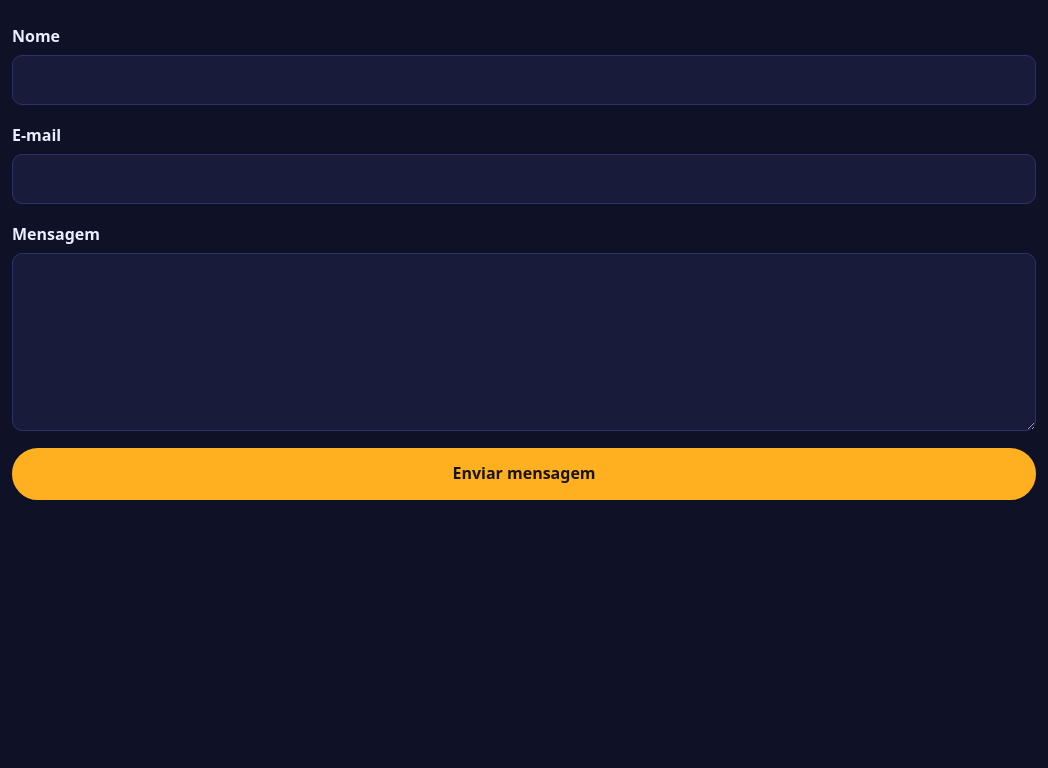
Scenario: ContactForm › envia dados válidos e mostra feedback de sucesso
Type "Ana Souza" into the field labelled "Nome" at (524,80), box [12,55,1036,105]
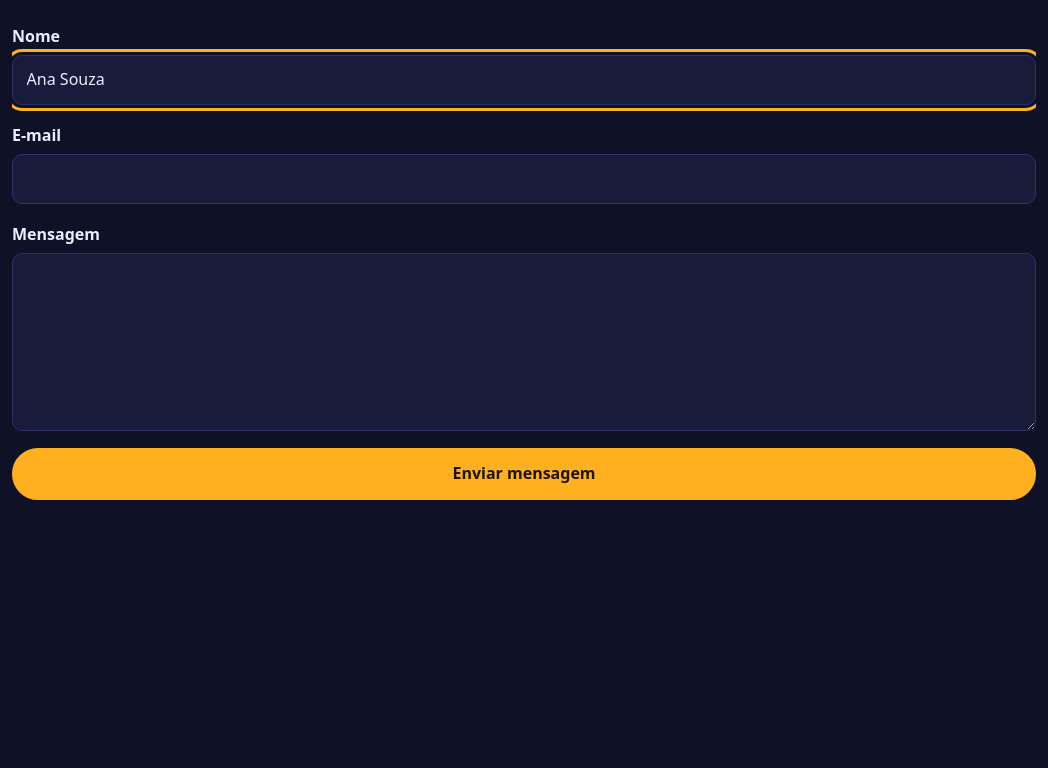
Type "ana@exemplo.com" into the field labelled "E-mail" at (524,179), box [12,154,1036,204]
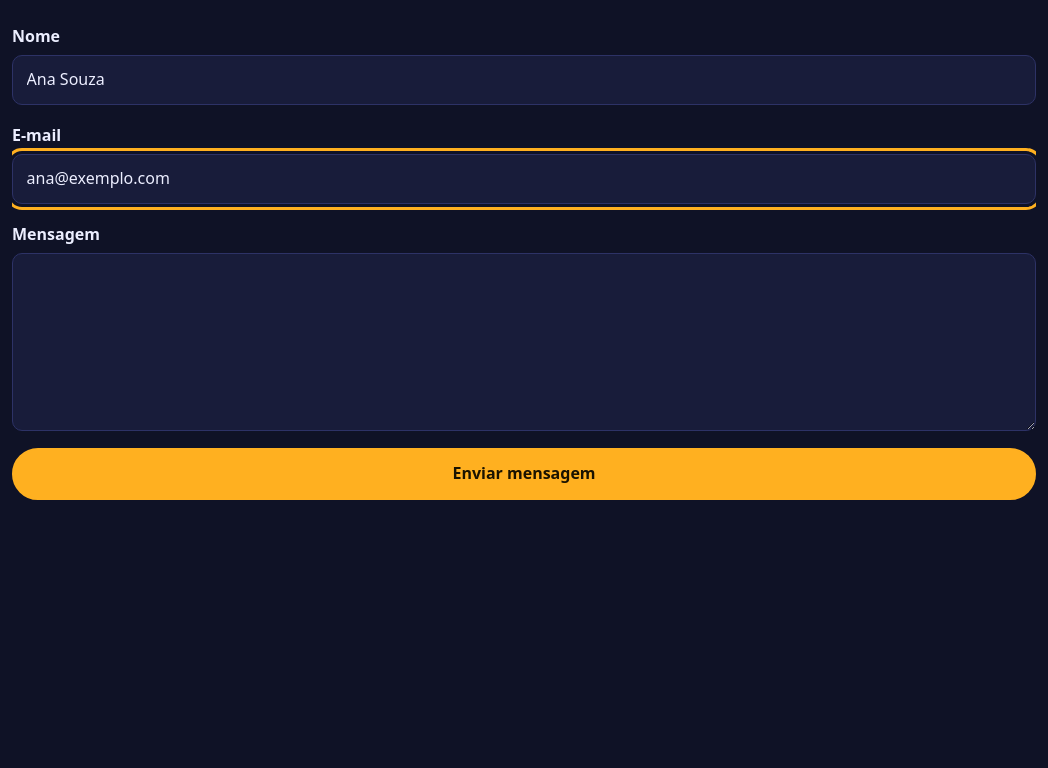
Type "Olá! Gostei muito do seu portfólio." into the text box labelled "Mensagem" at (524,342), box [12,253,1036,431]
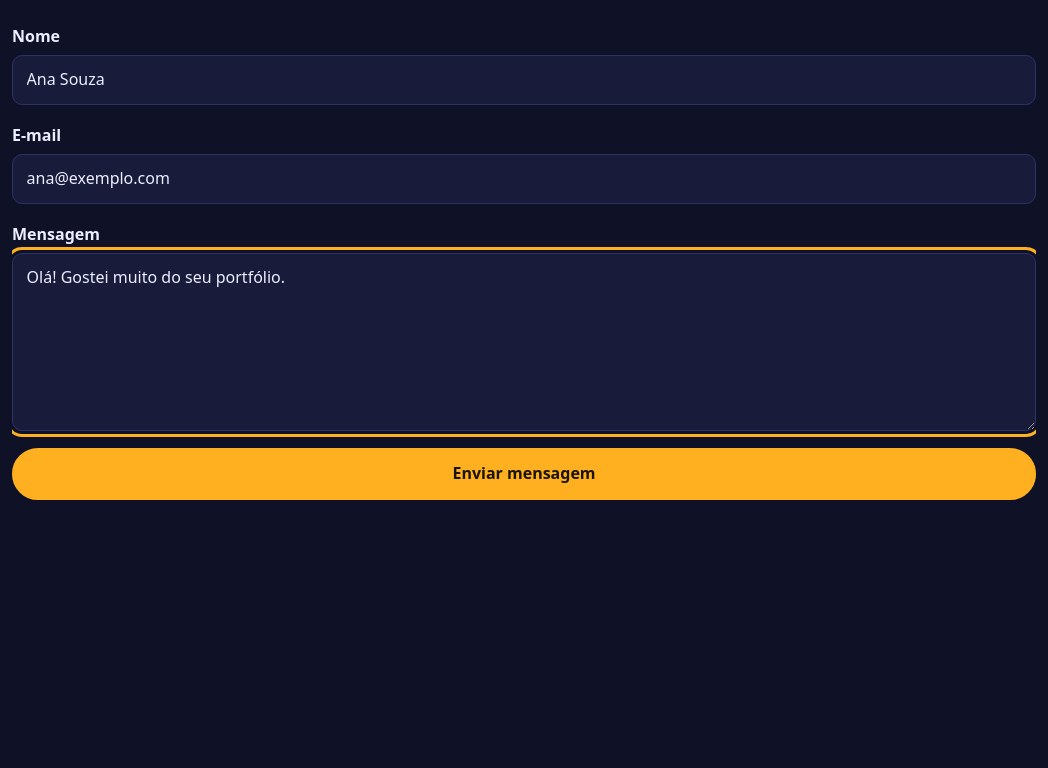
Click the button "Enviar mensagem" at (524,474), box [12,448,1036,500]
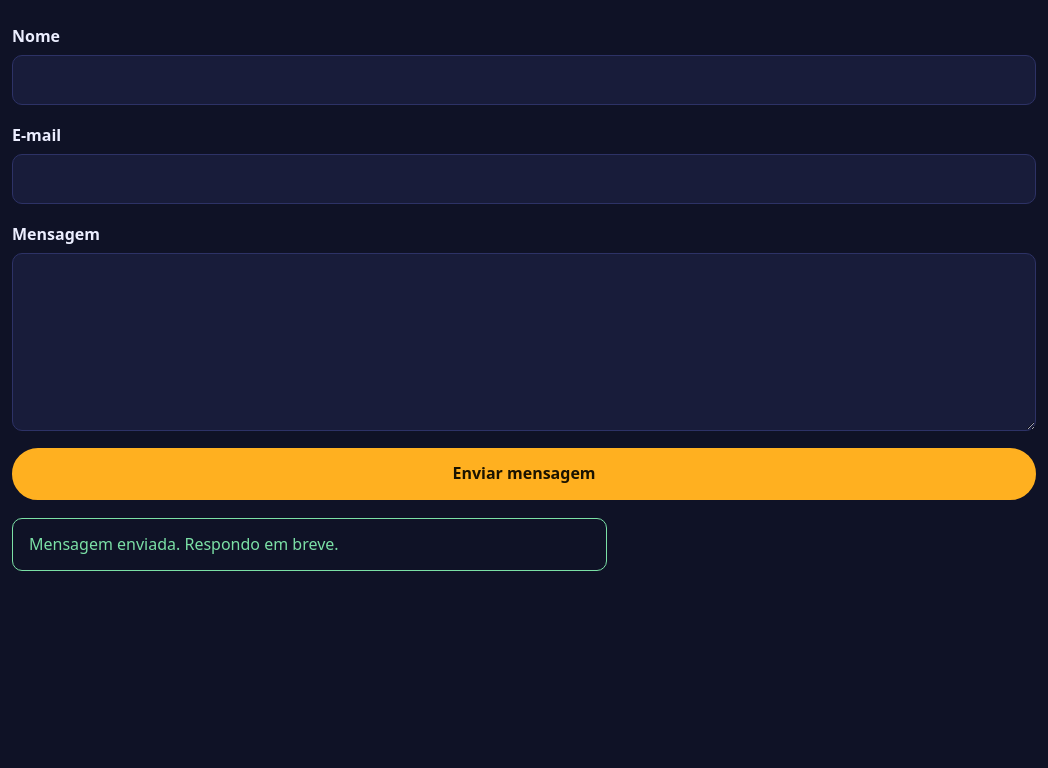
expect the text "Mensagem enviada. Respondo em breve." is shown: met, box [12,518,607,571]
